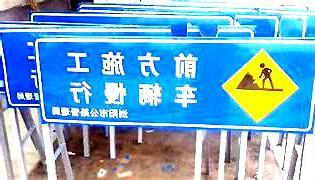sign: (37, 39, 314, 132)
